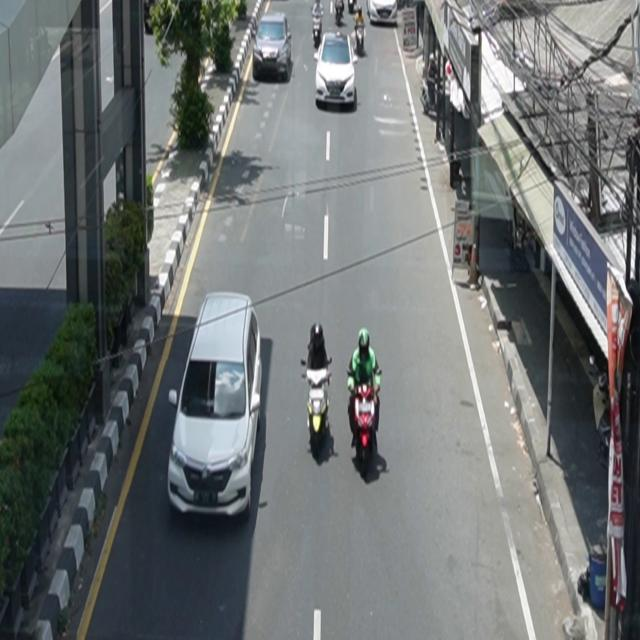car: (168, 292, 263, 520), (314, 31, 358, 110), (253, 12, 293, 82), (367, 1, 398, 26)
